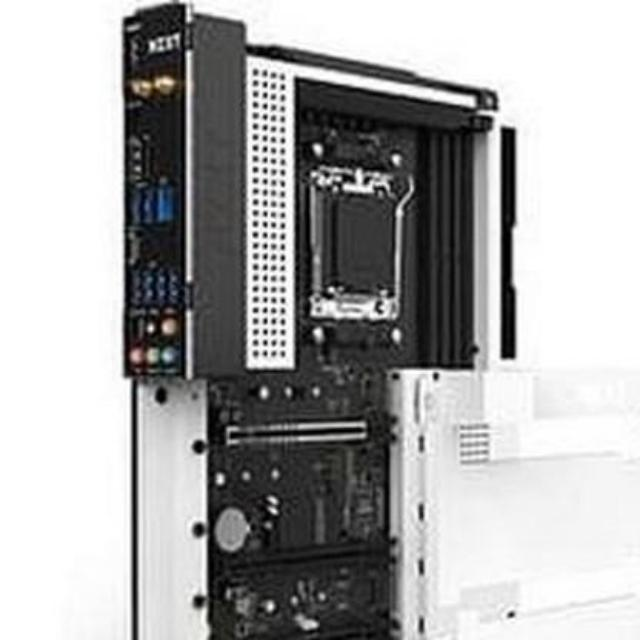Mainboard: (90, 0, 535, 640)
